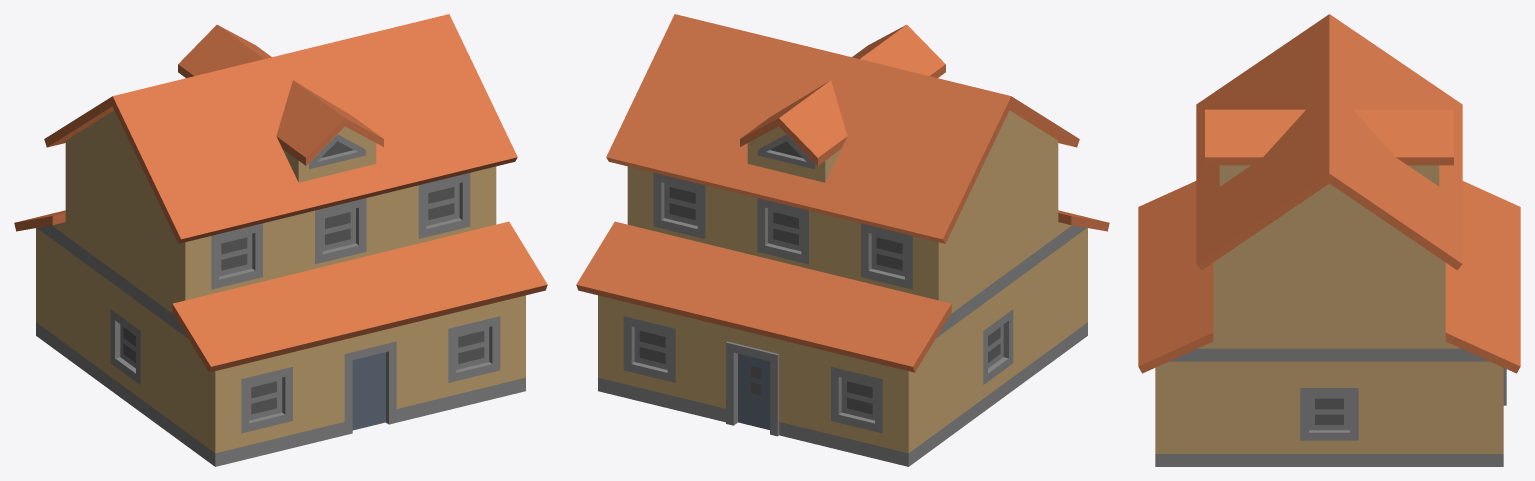
The model's file is SM_Suburb_House_05.fbx.
3 views of the same model, side by side, from view 1: azimuth 30°, elevation 25°; view 2: azimuth 150°, elevation 25°; view 3: azimuth 270°, elevation 25° (orthographic). The views are drawn at different scales.
Parts seen in each view (by area): view 1: SM_Suburb_House_05; view 2: SM_Suburb_House_05; view 3: SM_Suburb_House_05.
Part boxes in pixels (x1,y1,x2,y2): SM_Suburb_House_05: (14,14,547,466); SM_Suburb_House_05: (576,14,1109,466); SM_Suburb_House_05: (1138,14,1520,466).
Size of the model in its own units: 936 by 819 by 948.
